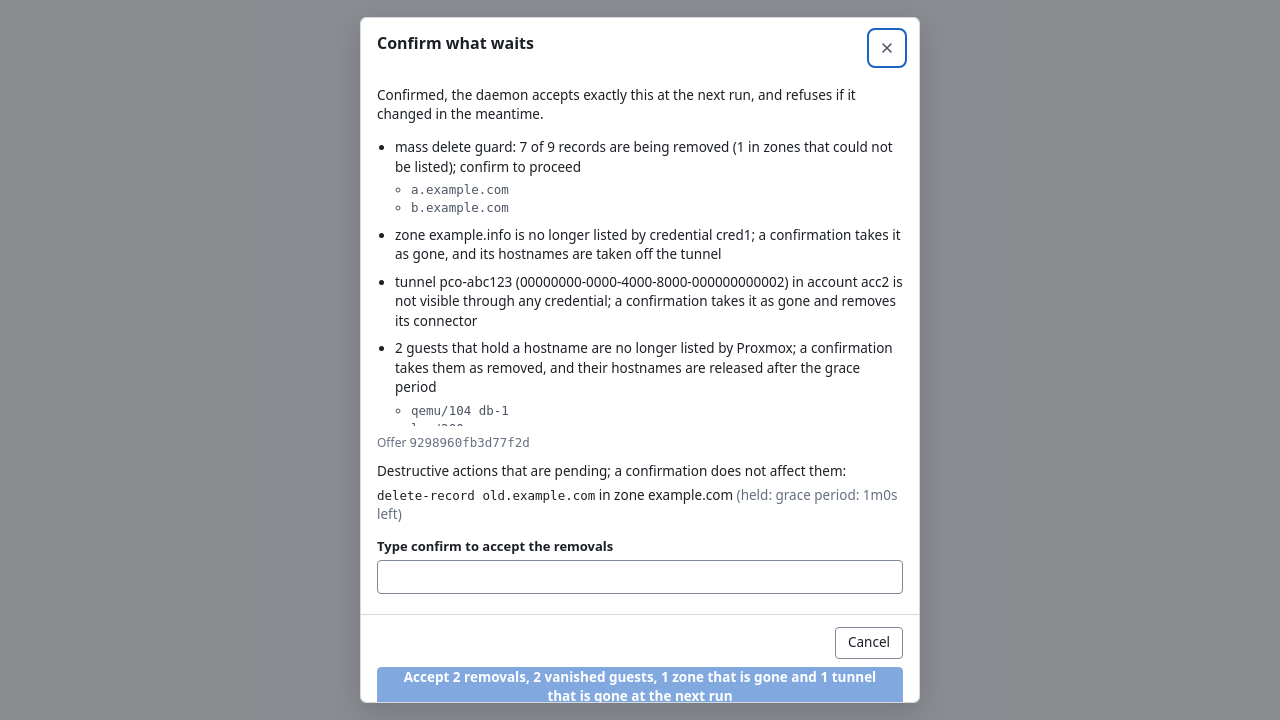
Test: the confirmation dialog › a daemon busy with a cycle: the list stays, with the word, and what went wrong
Type "confirm" into the field labelled "Type confirm to accept the removals" at coordinates (640, 577), box x1=377 y1=560 x2=903 y2=594
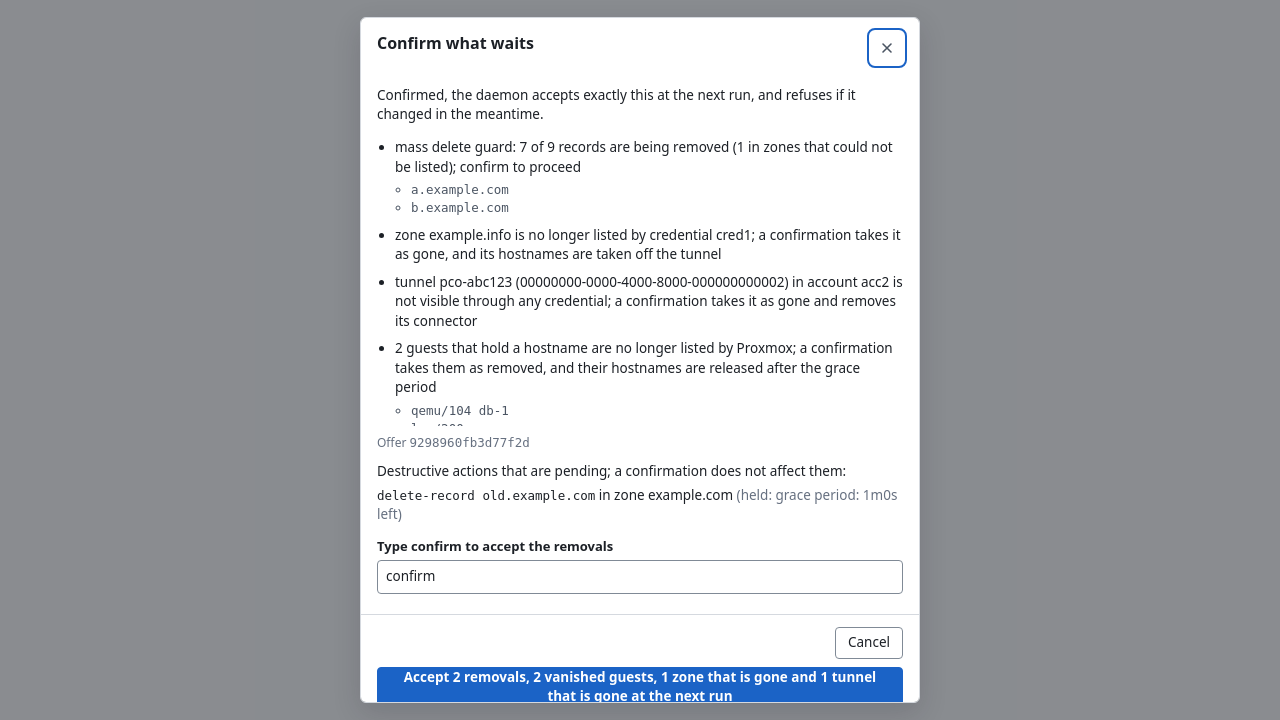
Click the button "Accept " at coordinates (640, 687), box x1=377 y1=667 x2=903 y2=708
(page scrolled)
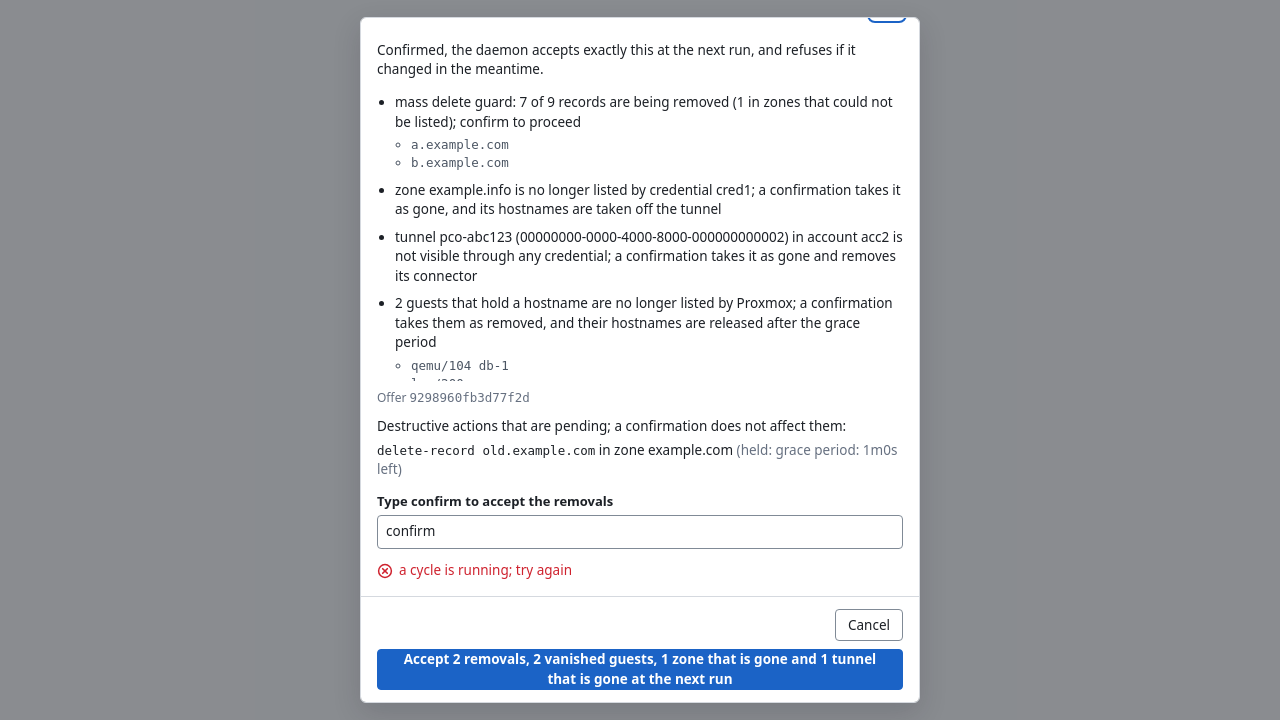
Result: the message reads "a cycle is running; try again" at x1=399 y1=561 x2=572 y2=579
